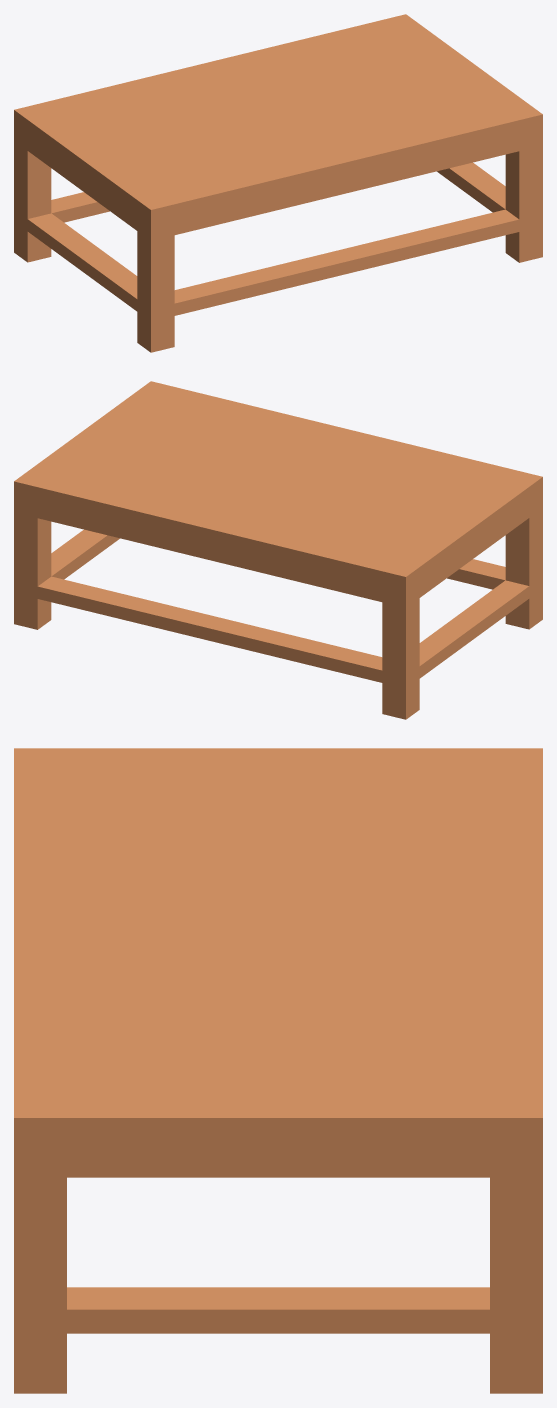
Rendered from Table Coffee.glb.
3 views of the same model, one above another, from view 1: azimuth 30°, elevation 25°; view 2: azimuth 150°, elevation 25°; view 3: azimuth 270°, elevation 25° (orthographic). The views are drawn at different scales.
Parts seen in each view (by area): view 1: tableCoffee(Clone); view 2: tableCoffee(Clone); view 3: tableCoffee(Clone).
Boxes of the visible parts, <box> form: tableCoffee(Clone): <box>14,14,542,352</box>; tableCoffee(Clone): <box>14,381,542,719</box>; tableCoffee(Clone): <box>14,748,542,1393</box>.
Size of the model in its own units: 0.661 by 0.23 by 0.4.
